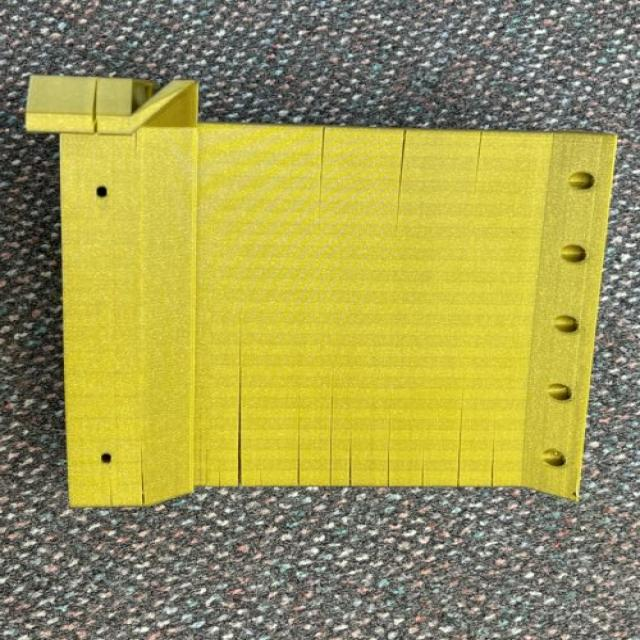cracks: (289, 414, 429, 512), (217, 333, 272, 515), (381, 111, 431, 229), (304, 121, 348, 205)
